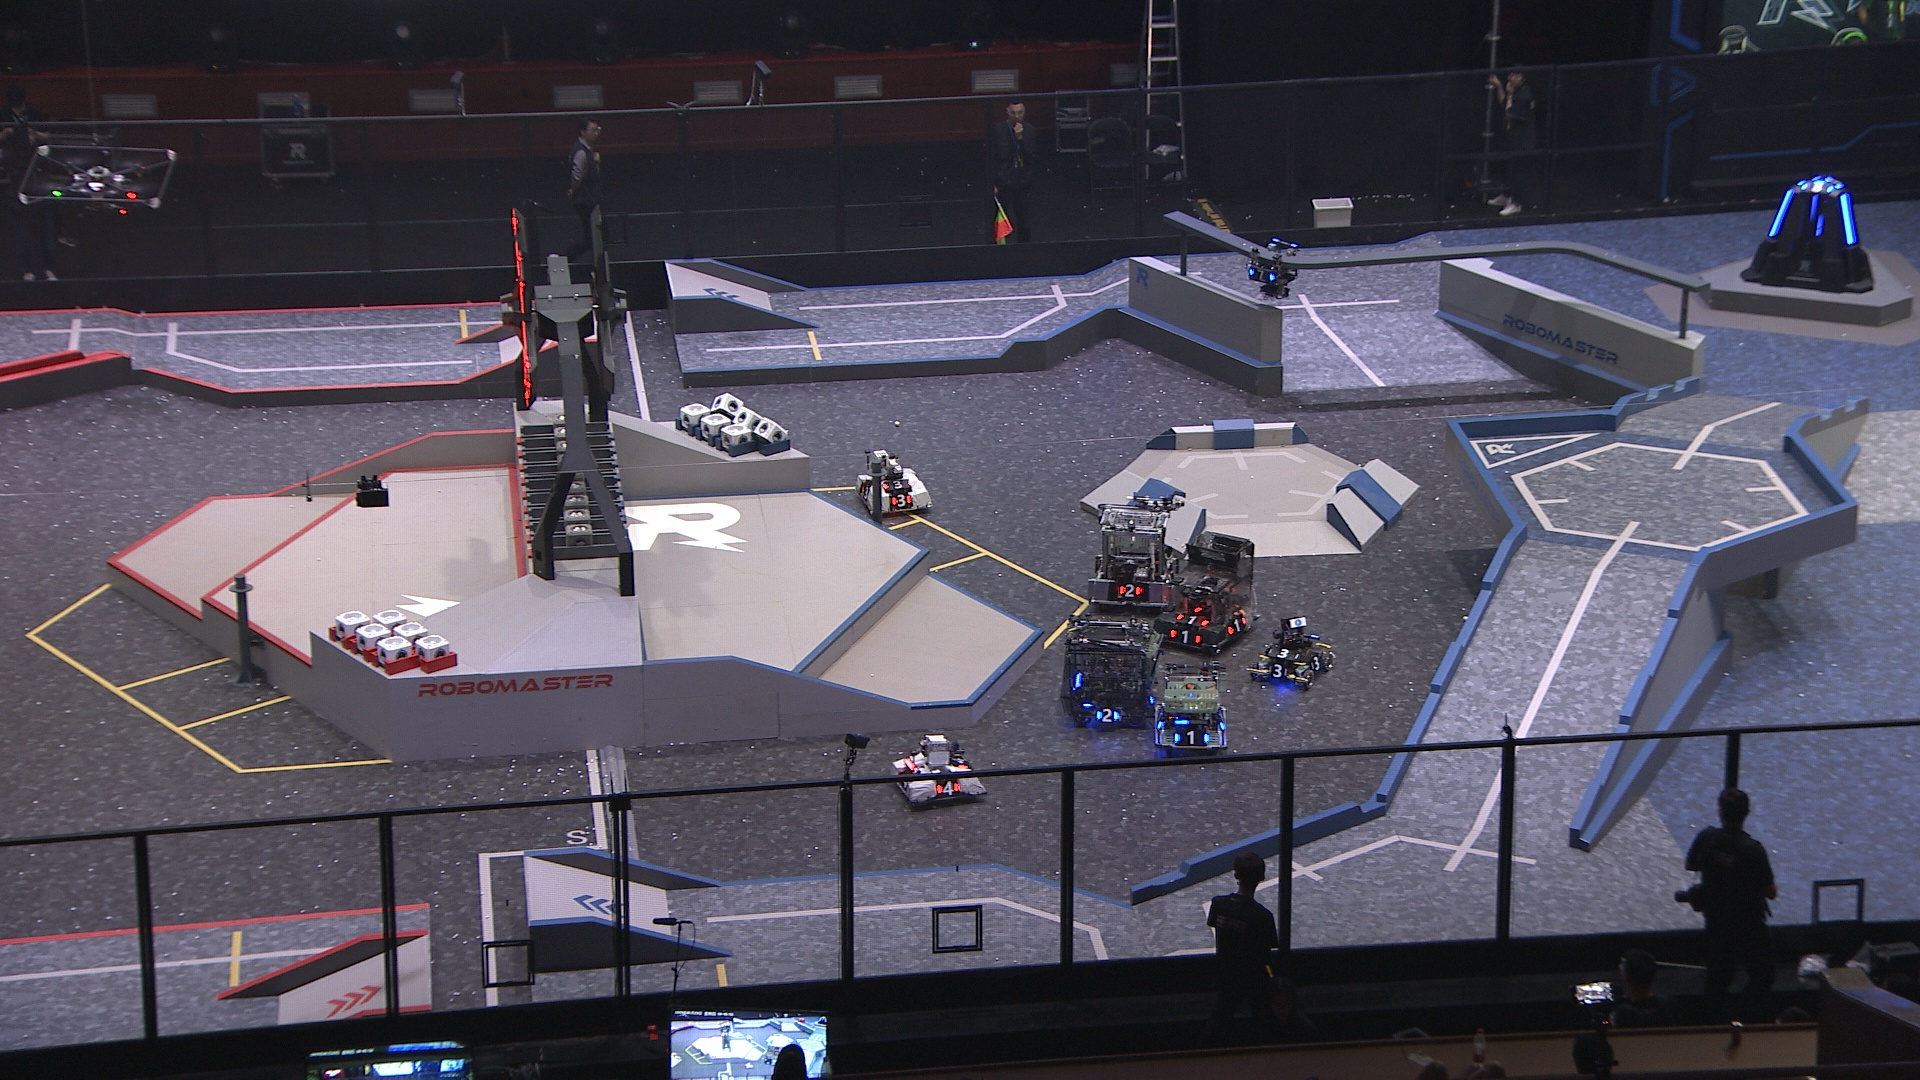armor: (1766, 187, 1793, 237), (1840, 191, 1855, 245), (1166, 628, 1203, 647), (1172, 728, 1211, 746), (1803, 178, 1836, 195), (1093, 707, 1122, 725), (1269, 646, 1302, 662), (1176, 611, 1207, 628), (1224, 616, 1247, 636), (935, 779, 960, 798), (1245, 268, 1276, 282), (880, 479, 911, 493), (1114, 583, 1143, 599), (1266, 665, 1291, 680), (1307, 651, 1325, 673), (1812, 214, 1828, 237), (891, 495, 913, 510), (948, 752, 967, 769), (858, 484, 870, 500)
base: (1737, 174, 1876, 295)
car: (1162, 531, 1258, 651), (1063, 618, 1158, 731), (1087, 500, 1174, 611), (887, 733, 984, 811), (1149, 662, 1230, 752), (1245, 616, 1332, 688), (852, 448, 935, 517)
watcher: (1244, 237, 1299, 297)
